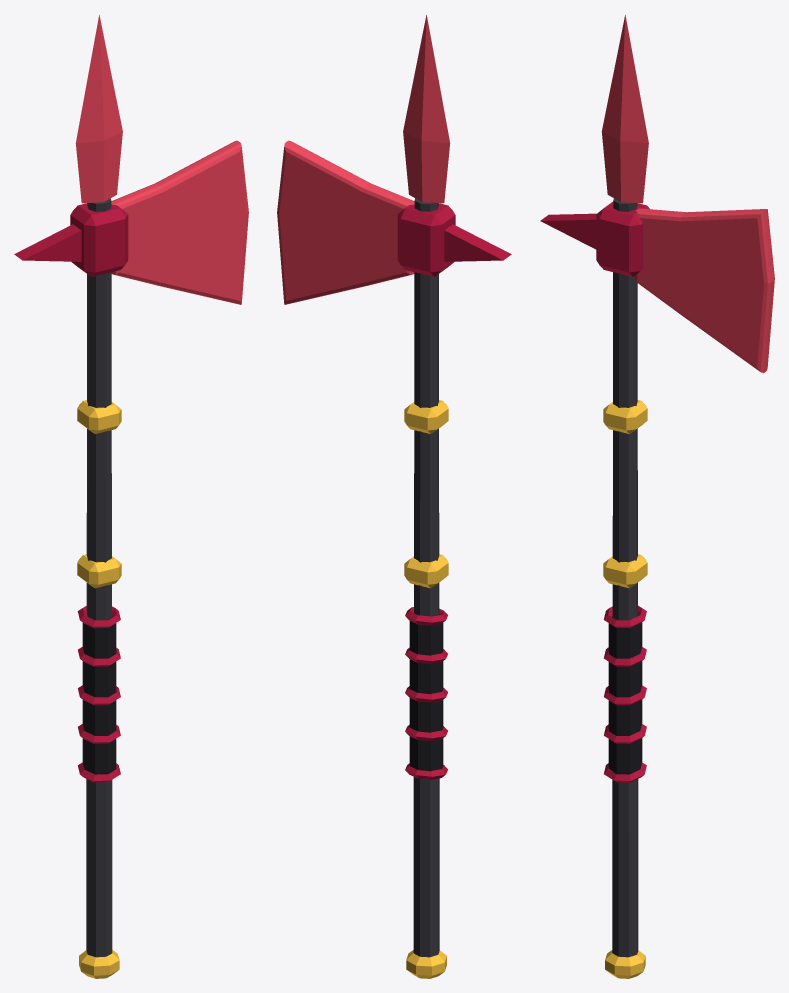
The model's file is RubyHalberd.fbx.
The picture shows the model from 3 angles, left to right: view 1: azimuth 30°, elevation 25°; view 2: azimuth 150°, elevation 25°; view 3: azimuth 330°, elevation 25°; orthographic projection.
Parts seen in each view (by area): view 1: RubyHalberd; view 2: RubyHalberd; view 3: RubyHalberd.
Boxes of the visible parts, bbox=[...] form: RubyHalberd: bbox=[14, 15, 248, 978]; RubyHalberd: bbox=[277, 15, 511, 978]; RubyHalberd: bbox=[540, 15, 774, 978].
Bounding box in the file's own units: 1.55 × 6.22 × 0.2614.
1 material, 1 textured.
